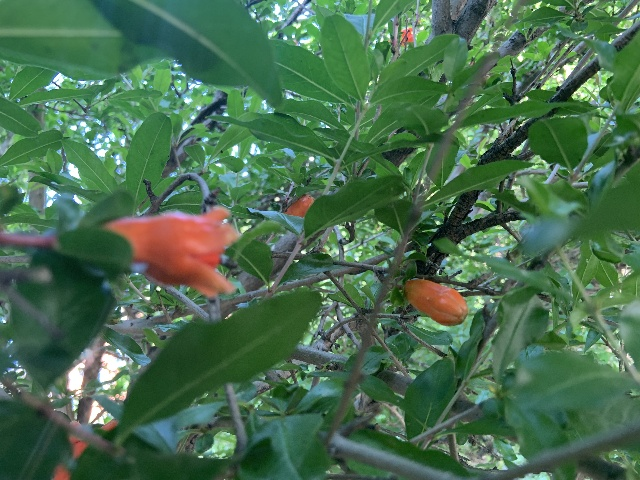bud: (403, 278, 468, 326), (283, 194, 314, 217)
flower: (102, 205, 240, 299), (50, 424, 118, 479)
